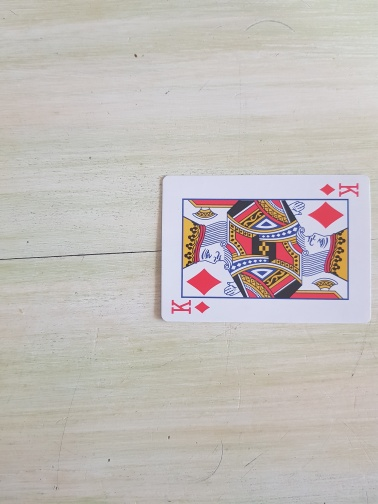king: (159, 173, 373, 326)
